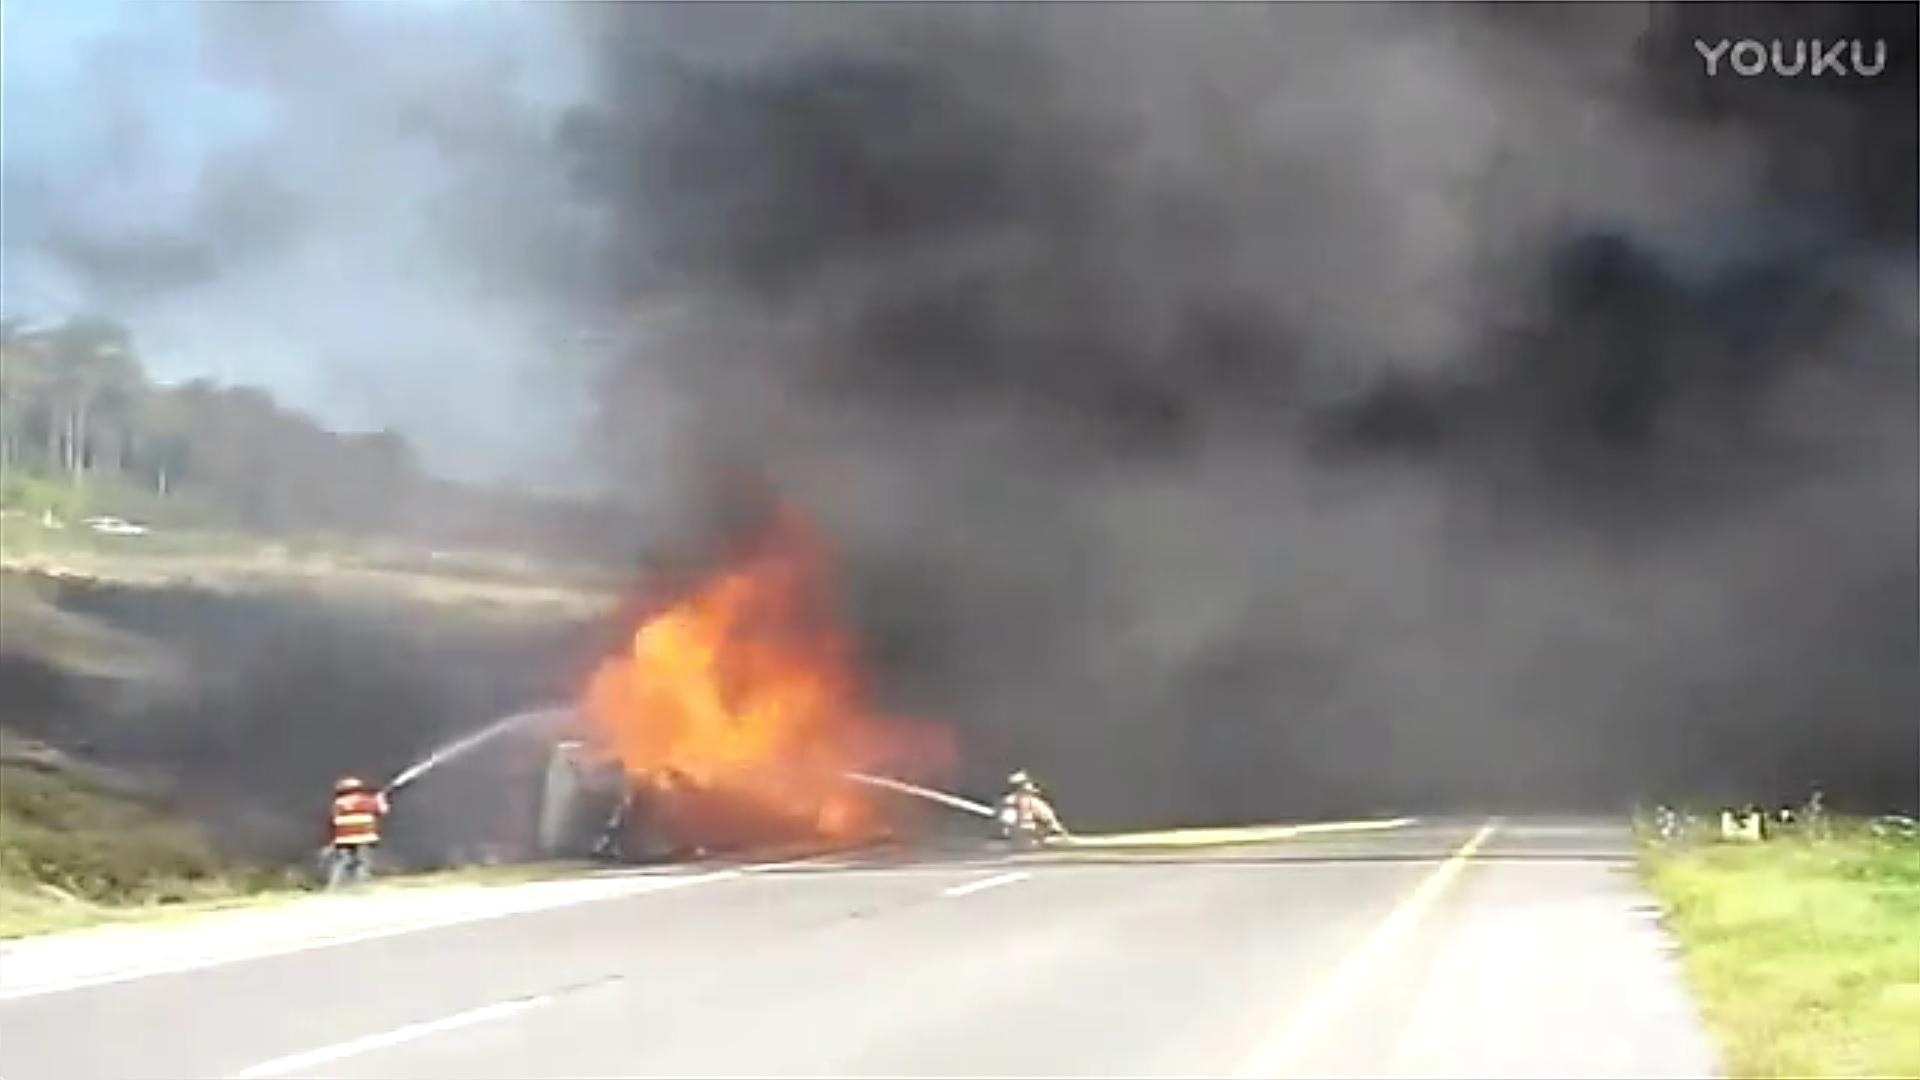fire: (566, 545, 945, 851)
